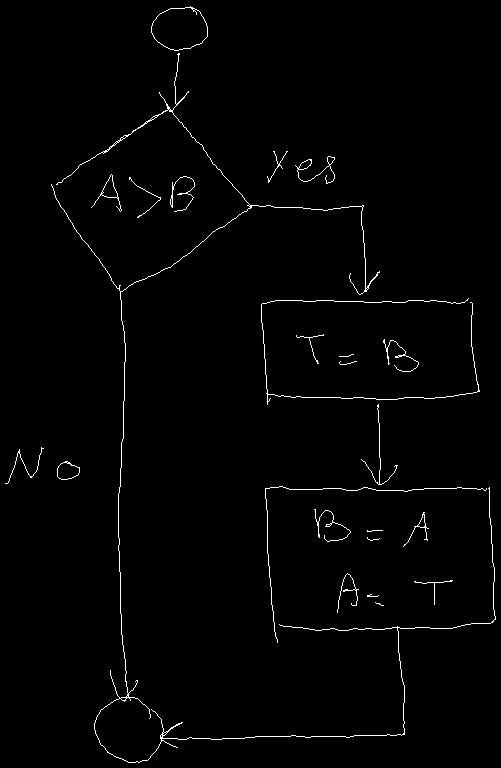arrow: (247, 205, 379, 294), (110, 285, 137, 701), (361, 404, 397, 484), (159, 53, 188, 111)
connection: (94, 697, 163, 762), (151, 6, 207, 50)
decision: (51, 104, 251, 291)
process: (265, 486, 495, 642), (261, 298, 479, 404)
text: (160, 626, 404, 747), (314, 509, 452, 612), (296, 334, 418, 371), (91, 174, 194, 217), (5, 447, 79, 483), (267, 151, 334, 183)
